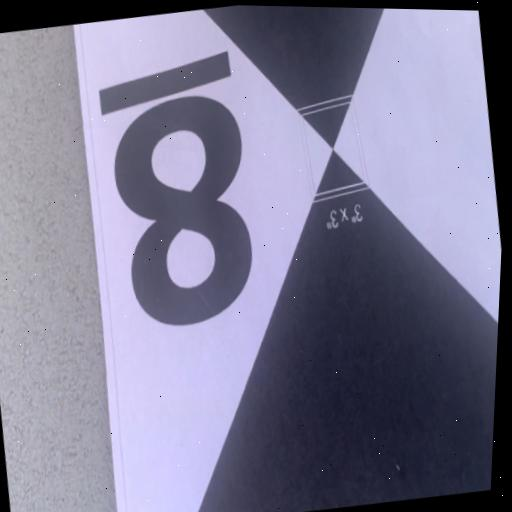target8: (74, 6, 501, 512)
